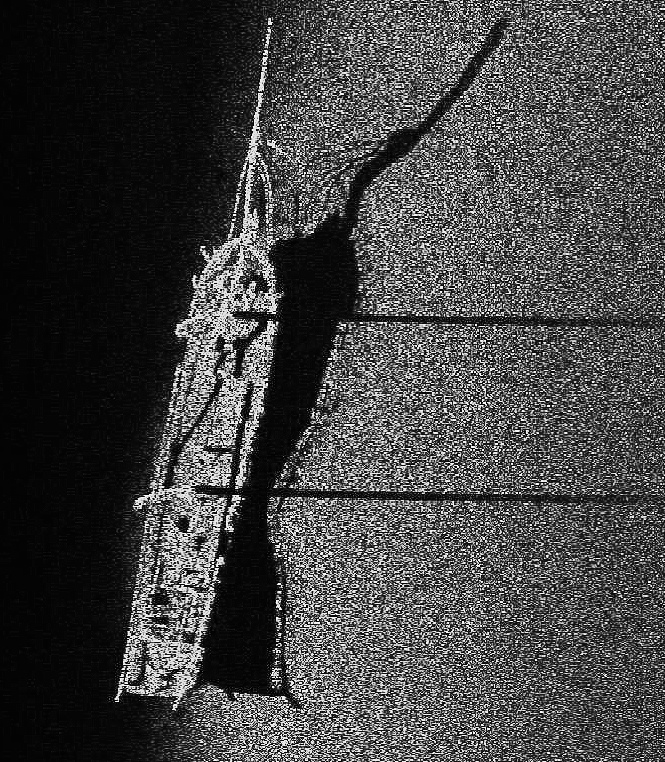ship: (105, 15, 292, 712)
